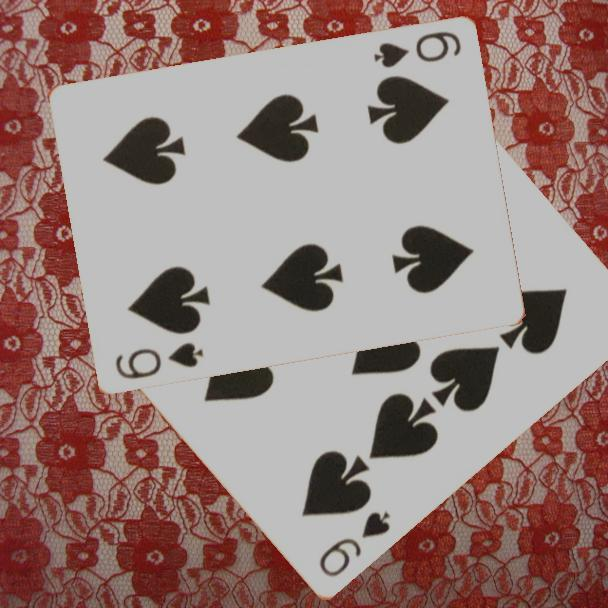s06: (111, 339, 206, 383), (369, 28, 464, 71)
s09: (315, 508, 394, 581)
